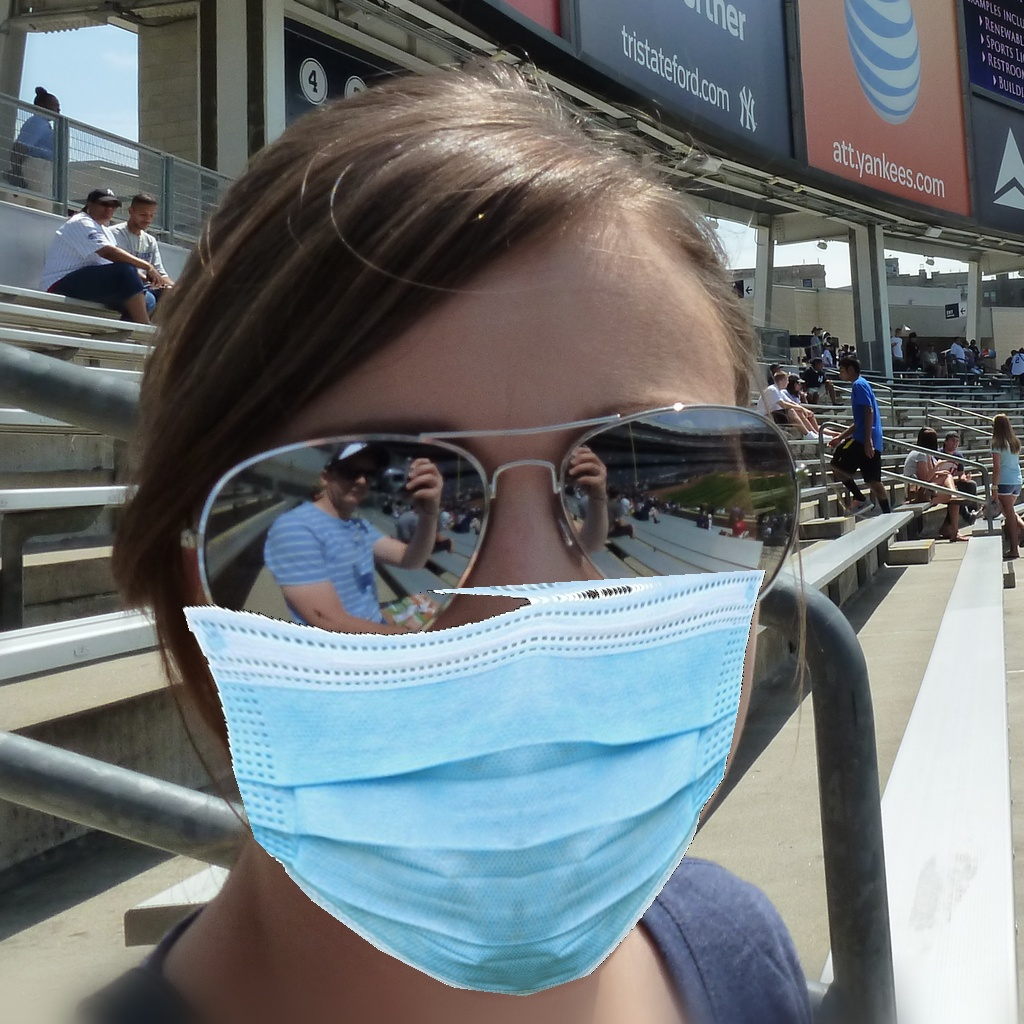with_mask: (203, 381, 786, 1002)
